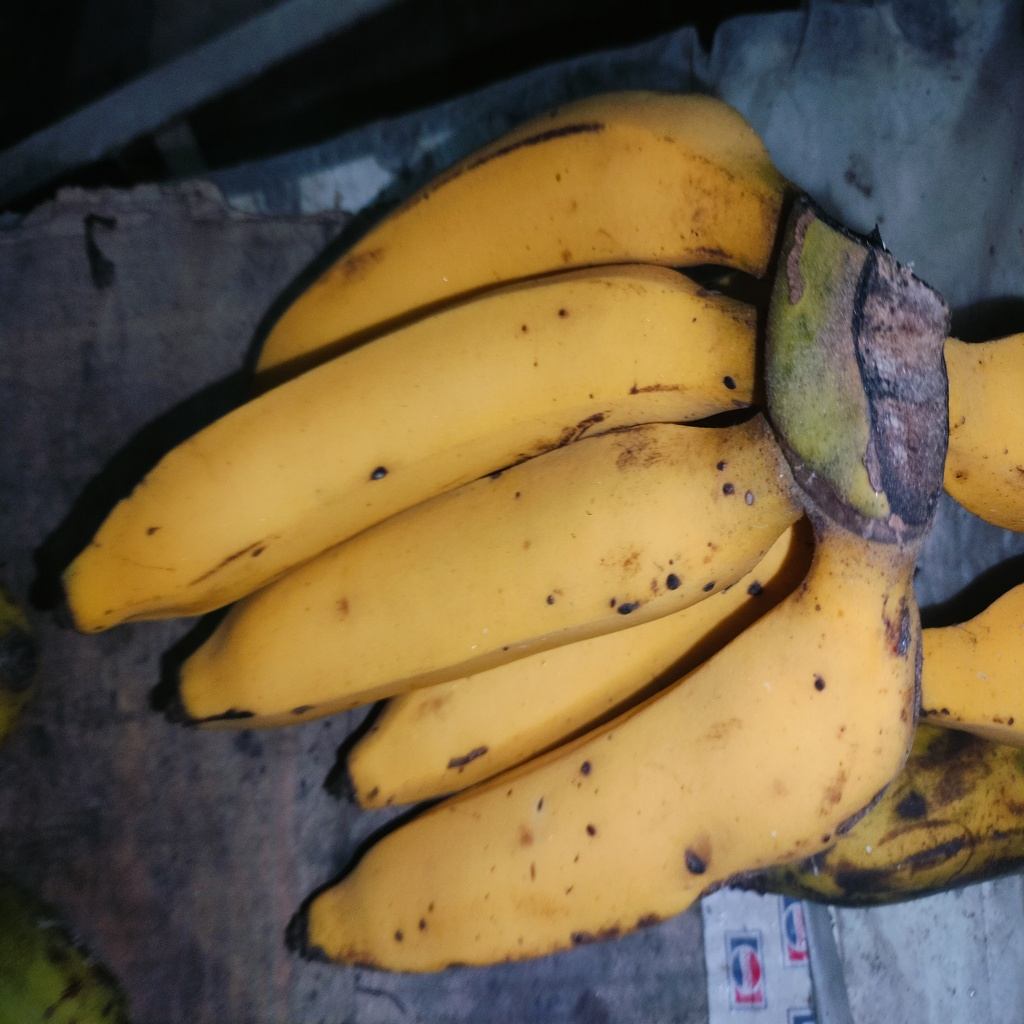unhealthy: (76, 259, 745, 627), (309, 580, 923, 970), (184, 417, 766, 725)
